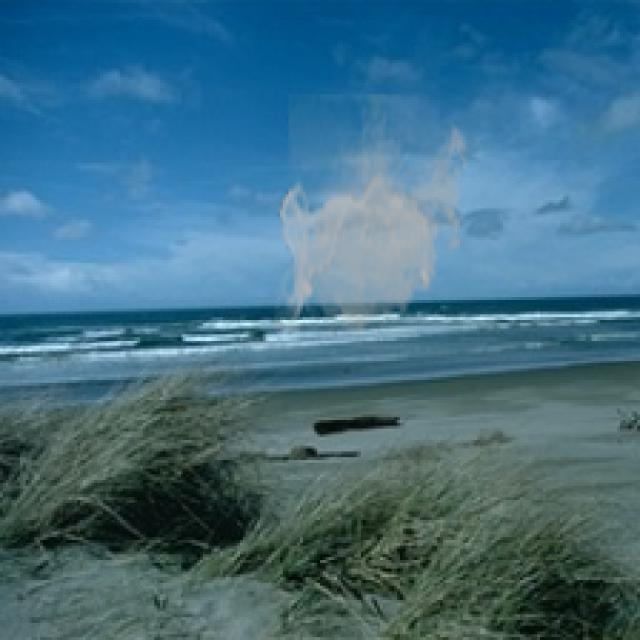Smoke: (274, 94, 474, 343)
